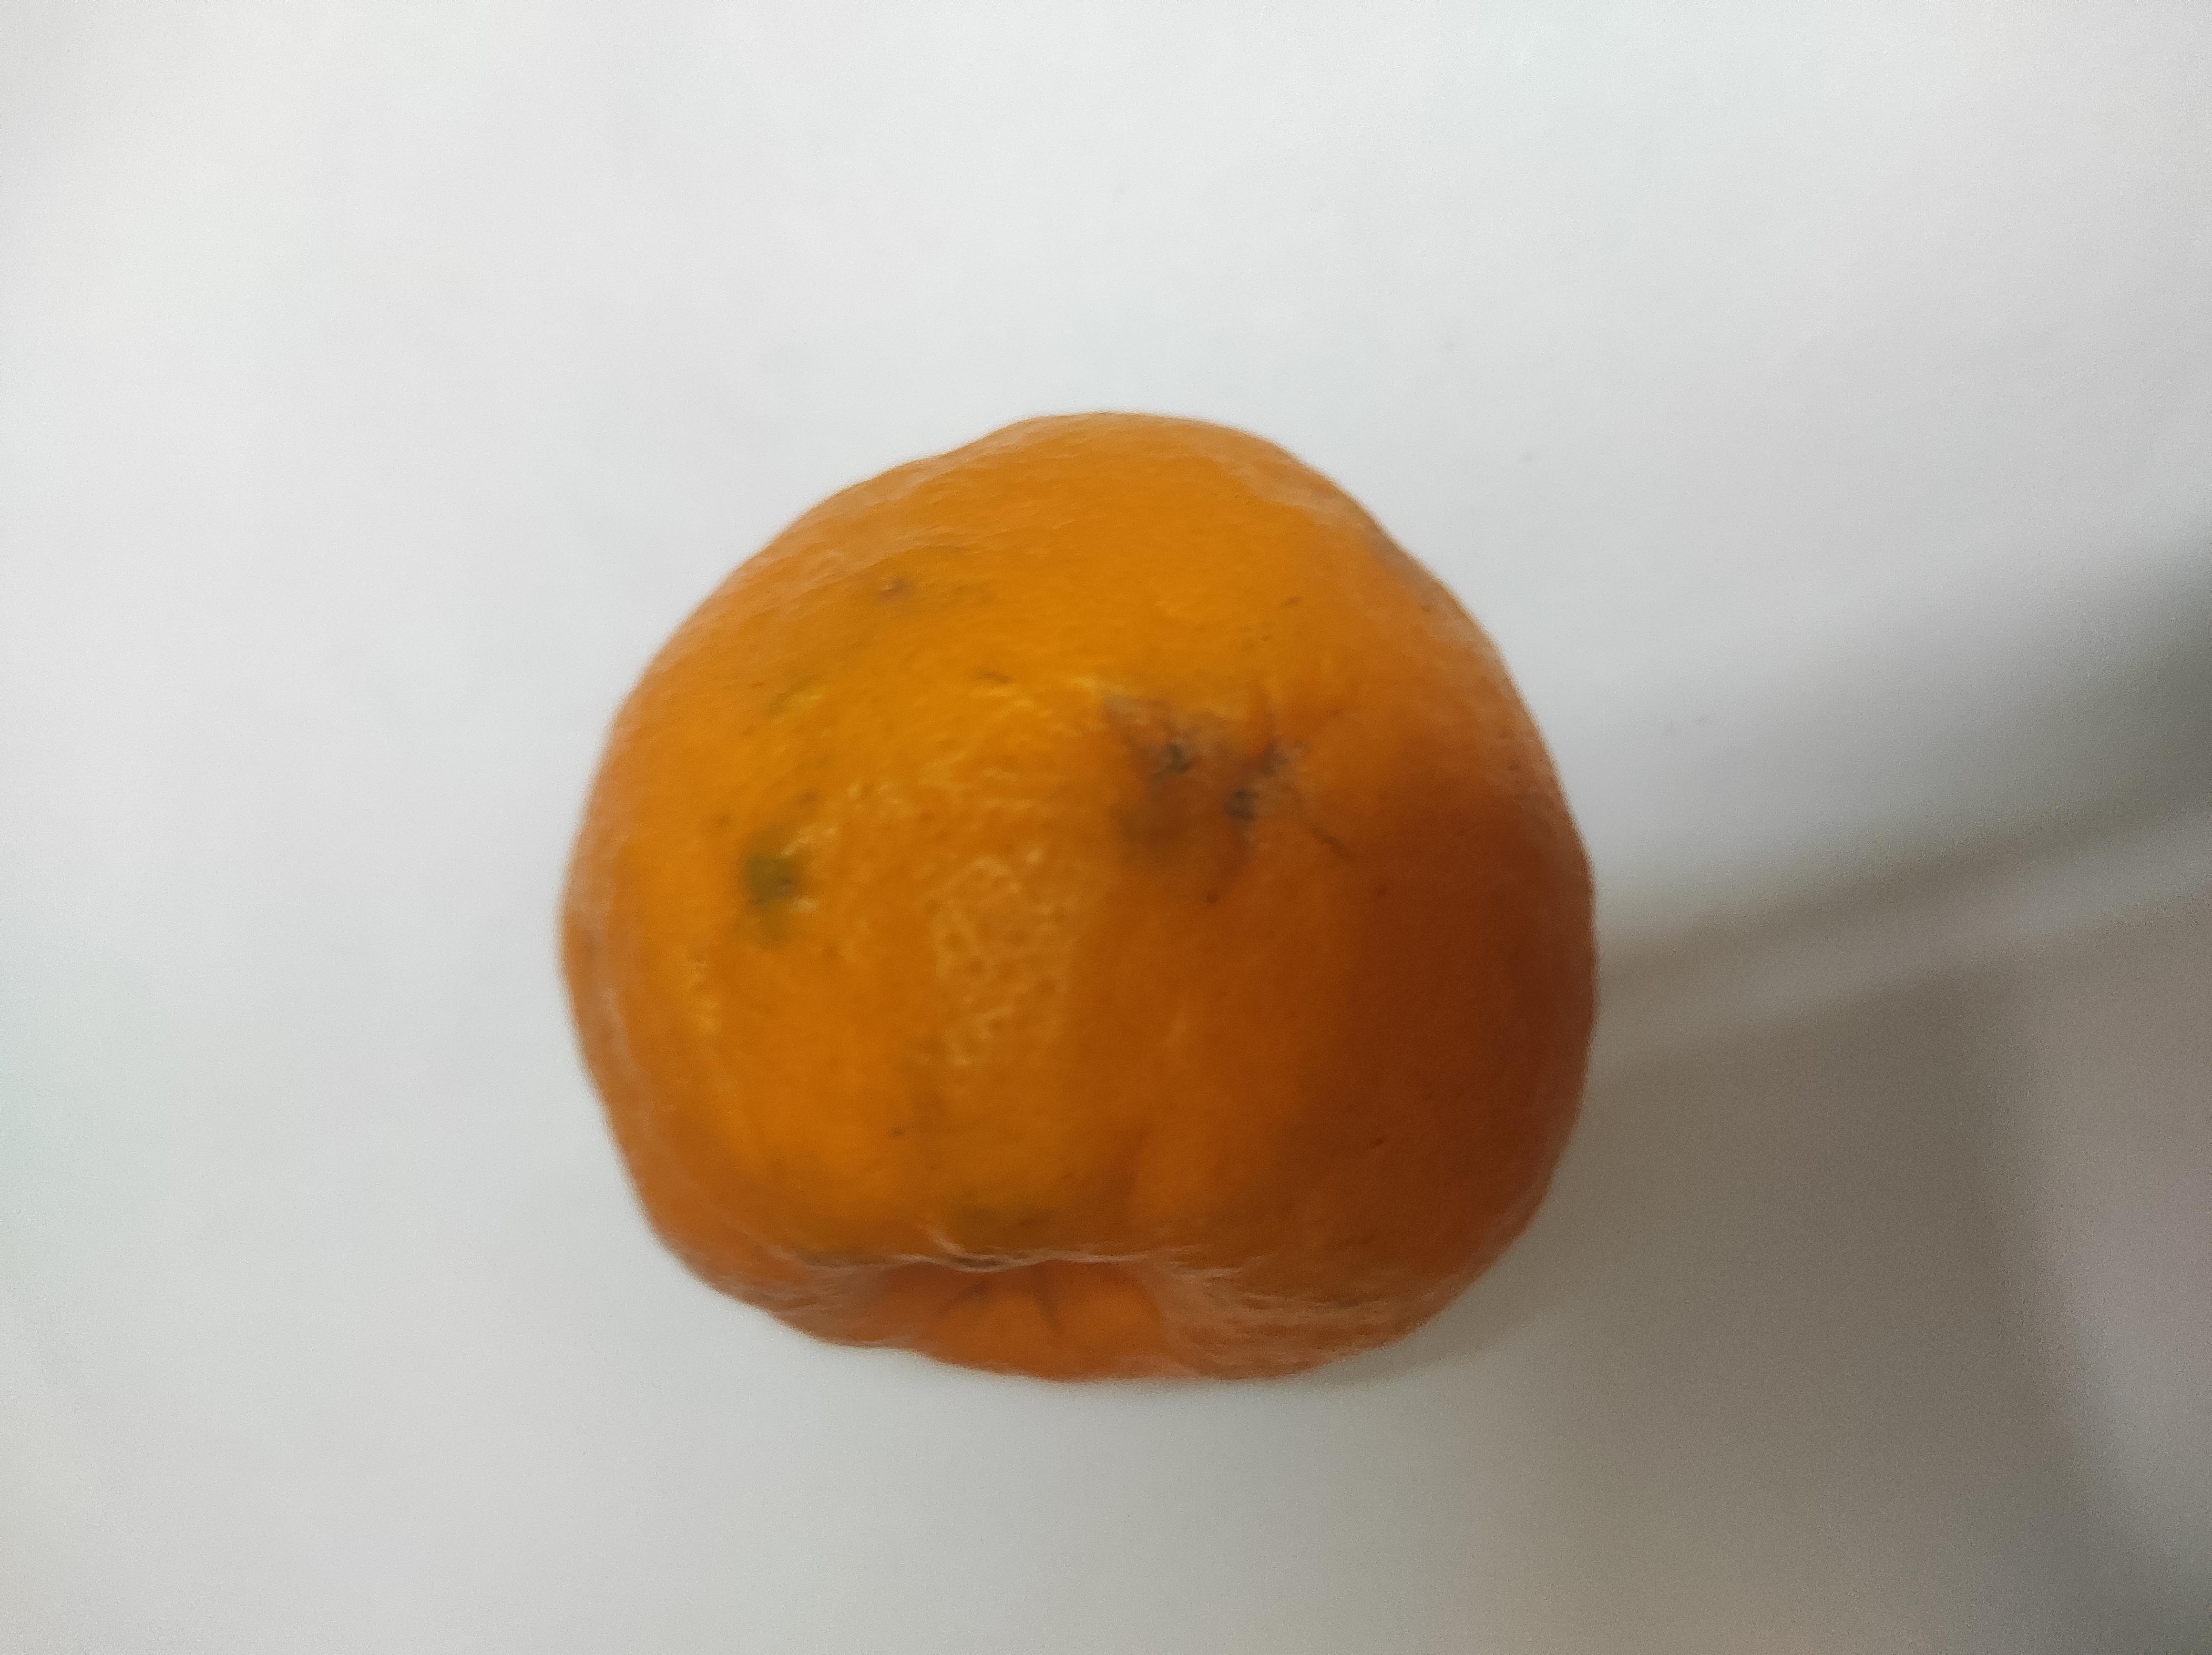Ripe: (558, 424, 1596, 1382)
